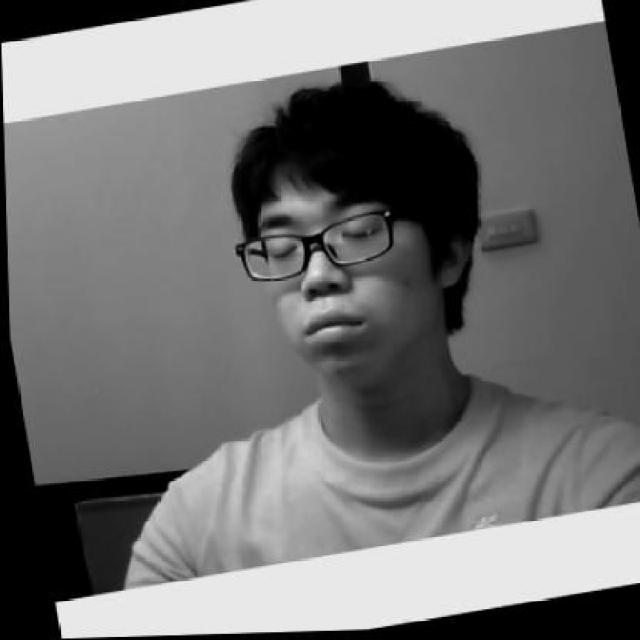inattentif: (206, 63, 488, 406)
